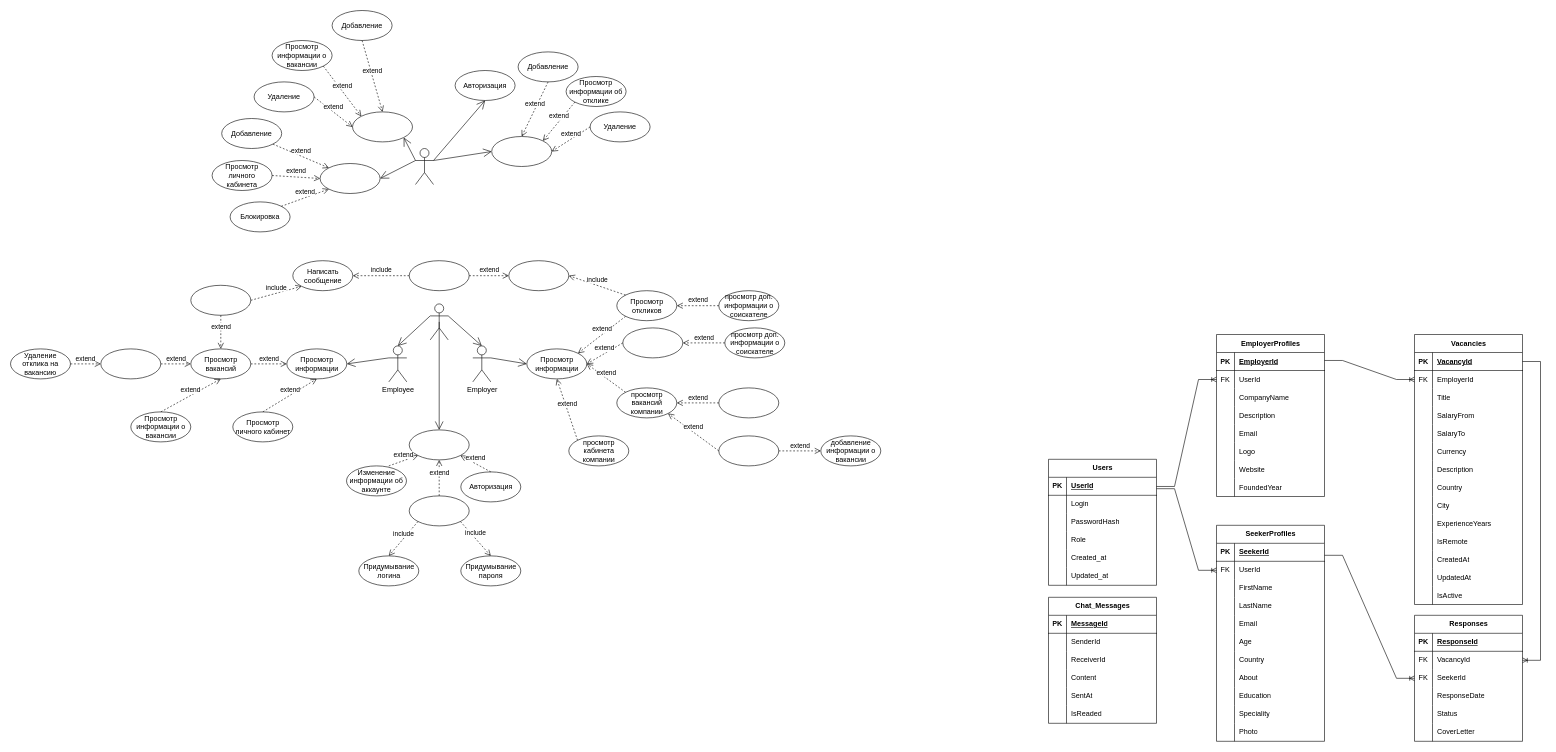
Image size: 1556x752. Some labels were removed from this diagram. The shapes that lost their labels are listed below. From the top down, each one's centre as x and y in pixels, then its label:
At pixel 382 126: "Управление вакансиями".
At pixel 424 166: "Admin".
At pixel 521 151: "Управление откликами".
At pixel 350 178: "Управление пользователями".
At pixel 439 275: "Инициировать чат с соискателем".
At pixel 538 275: "изменение состояния отклика".
At pixel 220 300: "Инициировать чат с работодателем".
At pixel 439 321: "User".
At pixel 652 342: "Просмотр соискателей".
At pixel 130 363: "Отклик на вакансию".
At pixel 748 402: "удаление вакансии".
At pixel 439 444: "Управление аккаунтом".
At pixel 748 450: "добавление вакансии".
At pixel 439 510: "Регистрация".
